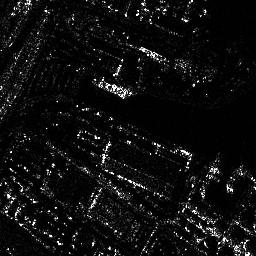ship: (92, 77, 127, 98)
